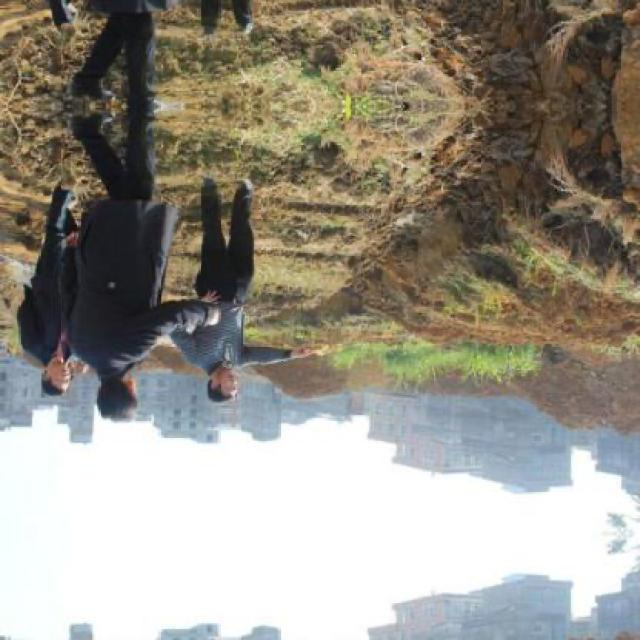sin casco: (166, 321, 311, 416), (16, 338, 95, 410), (85, 360, 167, 429)
